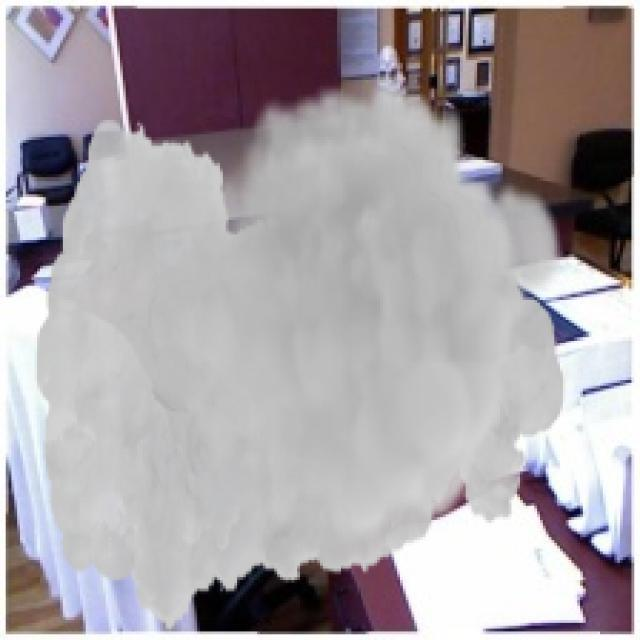Smoke: (34, 75, 566, 634)
